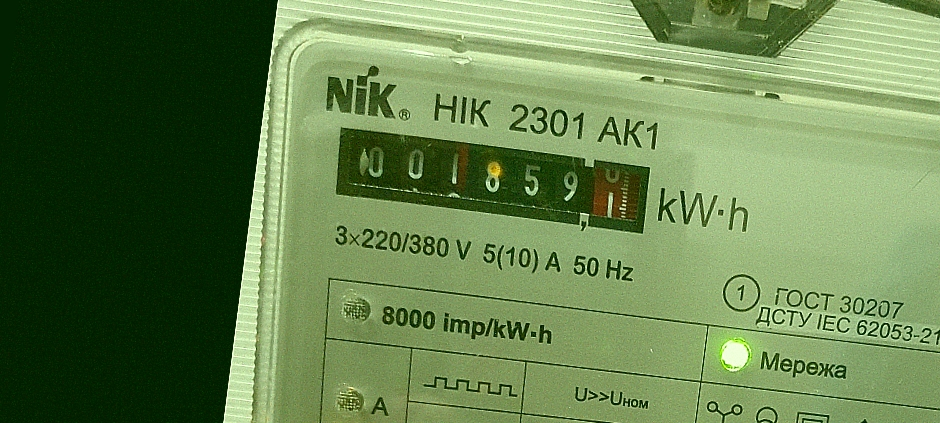0: (363, 142, 387, 180), (403, 145, 426, 181)
1: (446, 150, 462, 186), (601, 187, 617, 219)
5: (519, 160, 543, 198)
8: (480, 157, 504, 194)
9: (557, 167, 580, 204)
screen: (319, 113, 663, 245)
